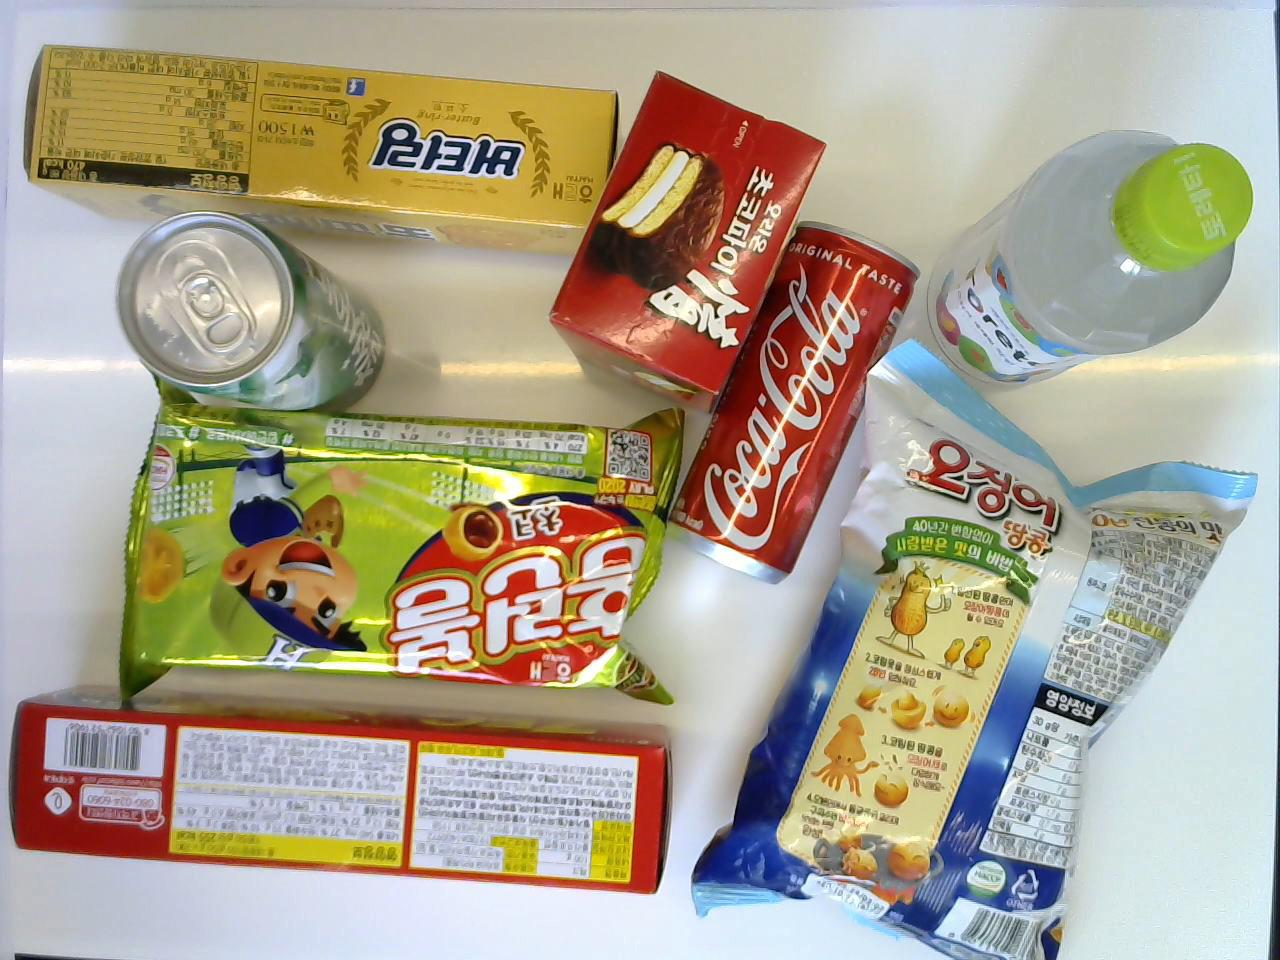buttering: (21, 40, 622, 269)
chocopie: (544, 68, 828, 417)
cidar: (115, 206, 388, 418)
coke: (659, 222, 920, 585)
homerunball: (114, 400, 687, 708)
squid_peanut: (687, 340, 1255, 958)
toreta: (926, 130, 1253, 395)
zec: (6, 685, 670, 896)
